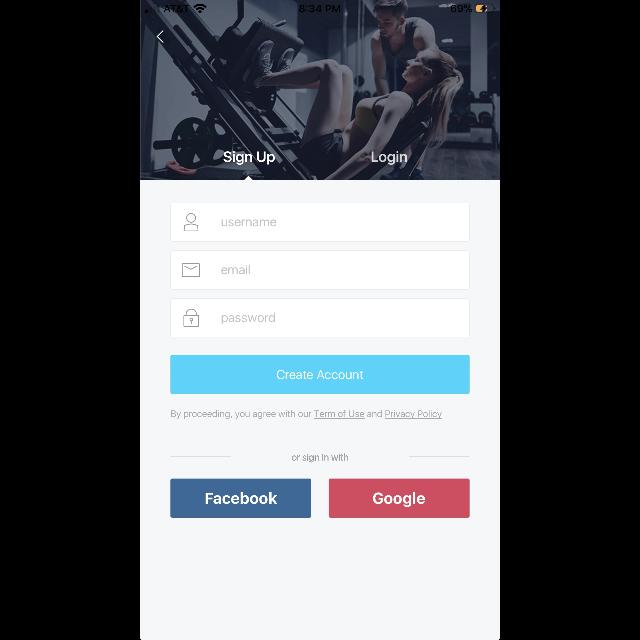icon: (184, 309, 198, 327), (184, 213, 198, 231), (182, 264, 200, 276), (156, 31, 164, 44)
image: (140, 0, 500, 180)
input: (170, 202, 470, 242), (170, 250, 470, 290), (170, 298, 470, 338)
text: (172, 411, 442, 419), (222, 313, 274, 325), (223, 152, 274, 164), (372, 151, 408, 165), (292, 453, 348, 462), (222, 220, 276, 227), (222, 266, 250, 274)
textbutton: (170, 356, 470, 394), (171, 478, 311, 518), (329, 478, 469, 518)
uppertaskbar: (140, 0, 500, 14)
